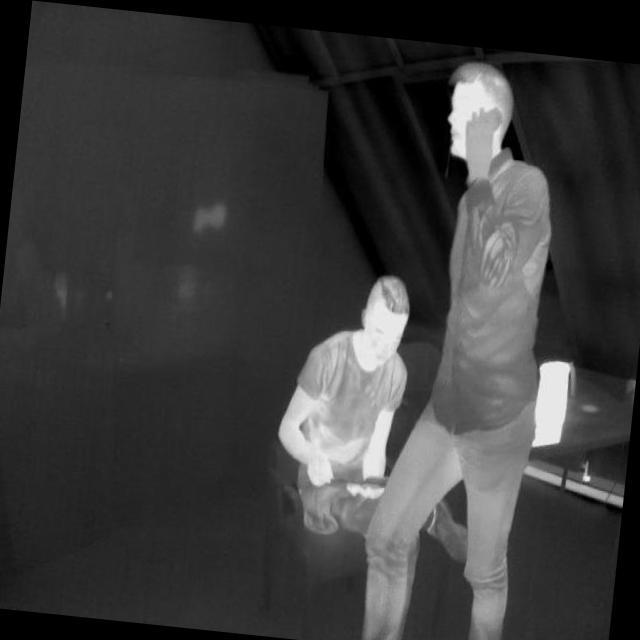person: (368, 63, 597, 640), (255, 258, 424, 640)
